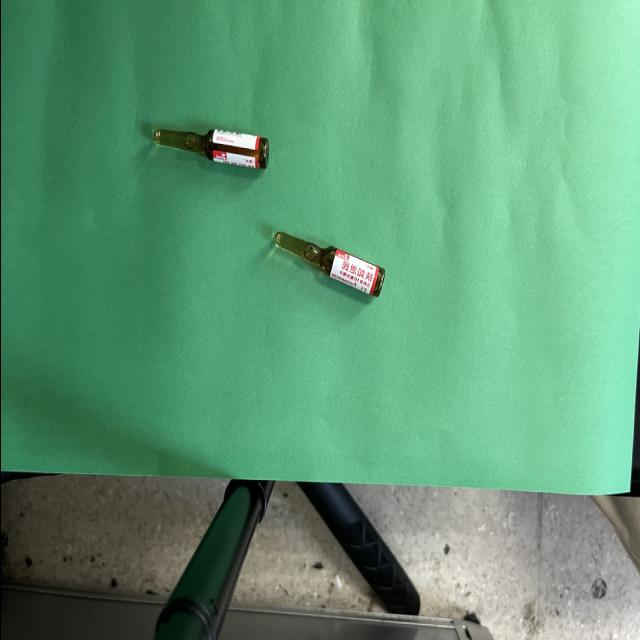Ampoules: (272, 231, 384, 296), (151, 129, 268, 169)
